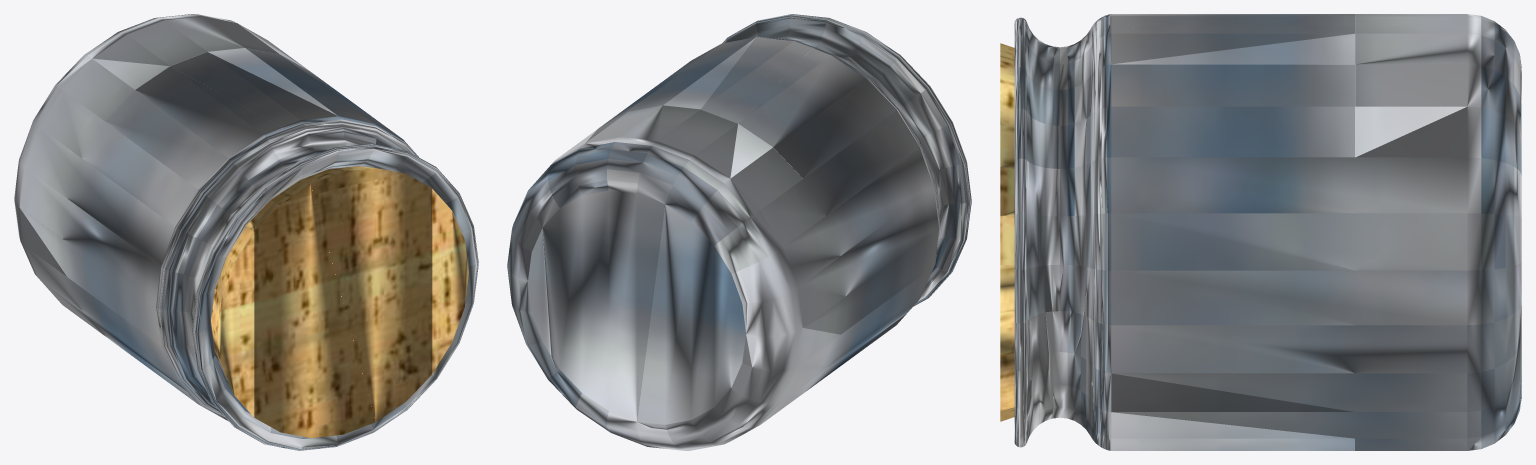
The model's file is model_align.obj.
3 views of the same model, side by side, from view 1: azimuth 30°, elevation 25°; view 2: azimuth 150°, elevation 25°; view 3: azimuth 270°, elevation 25° (orthographic). The views are drawn at different scales.
Size of the model in its own units: 0.0957 by 0.0957 by 0.1138.
2 materials, 2 textured.
